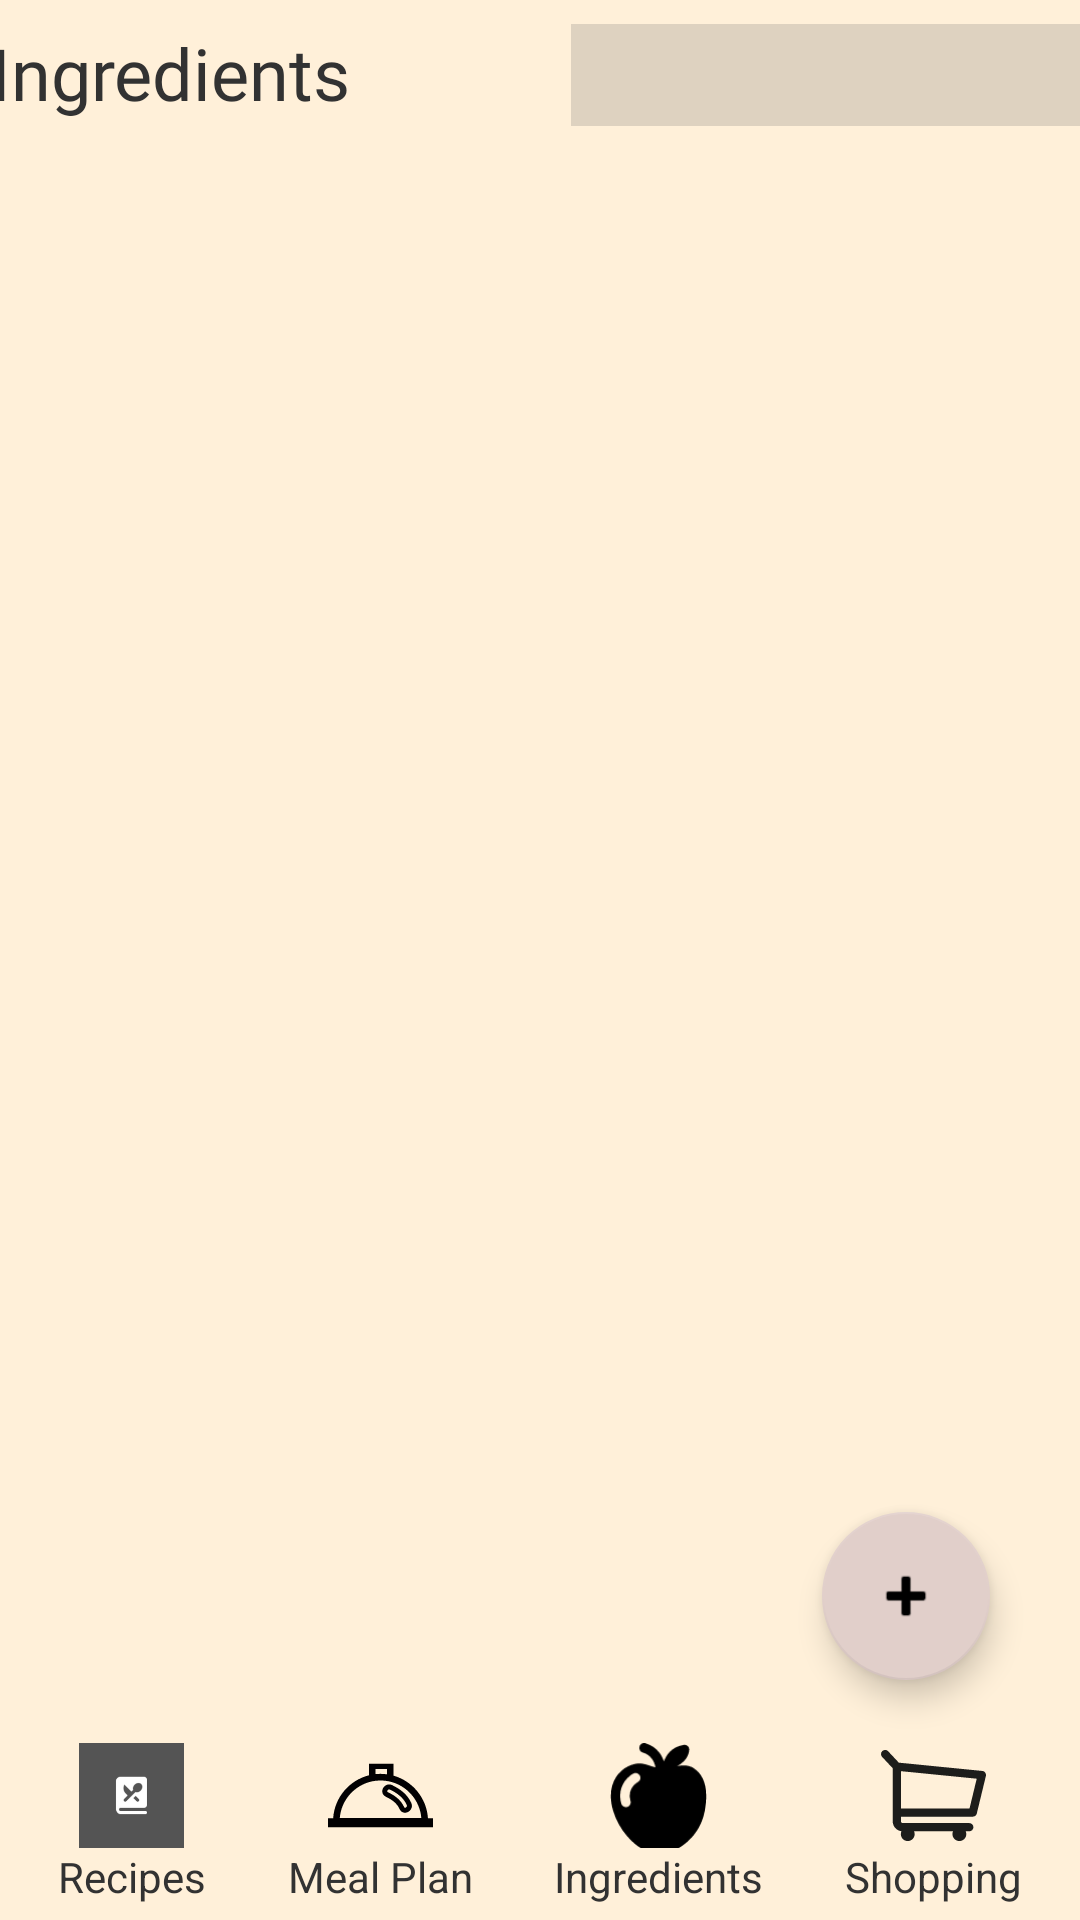

Icon click points for this 1080px×1920px phone screenshot, format point (x, y):
add: point (906, 1596)
